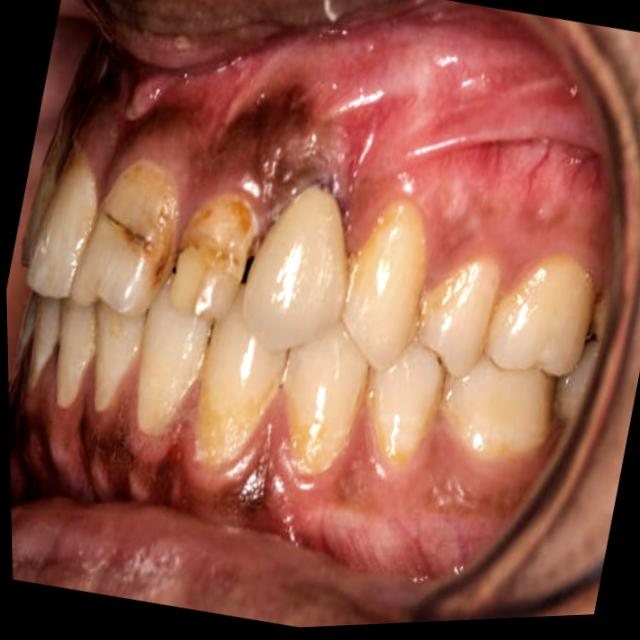calculus: (105, 159, 179, 294), (282, 401, 352, 480), (194, 394, 272, 464), (183, 193, 256, 266)
gingivitis: (9, 390, 292, 539), (87, 97, 372, 215)
